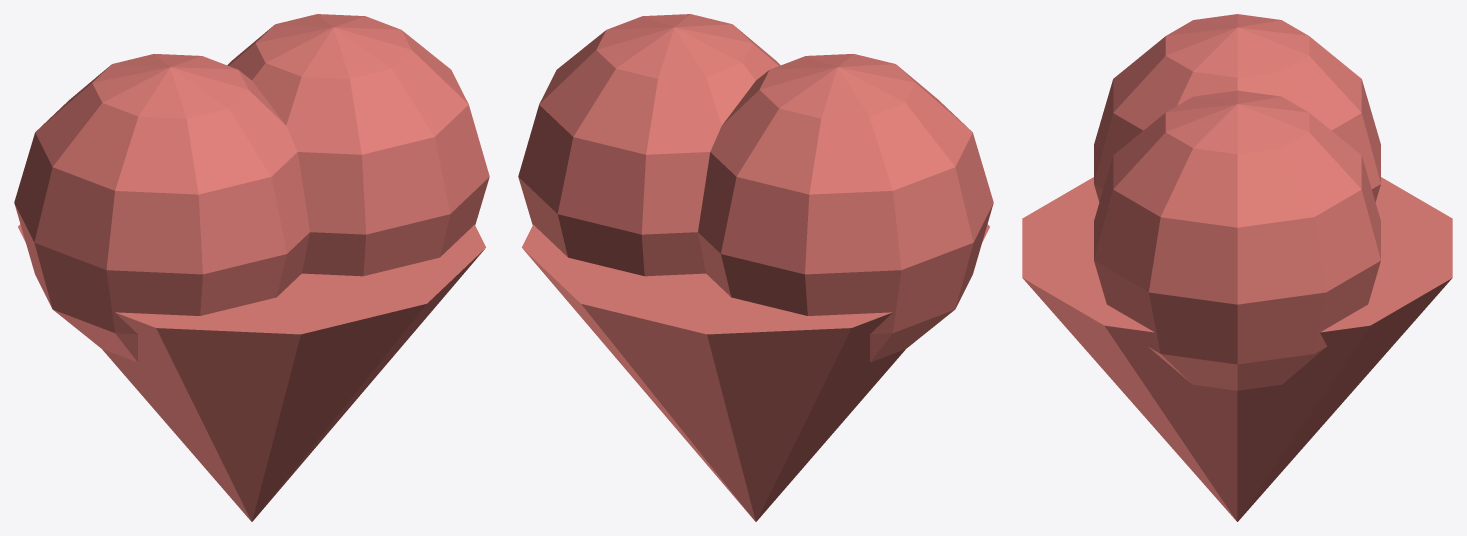
File: latido.glb
3 renders of one model, left to right at view 1: azimuth 30°, elevation 25°; view 2: azimuth 150°, elevation 25°; view 3: azimuth 270°, elevation 25°, orthographic. The views are drawn at different scales.
Parts seen in each view (by area): view 1: latido; view 2: latido; view 3: latido.
Part boxes in pixels (x1,y1,x2,y2): latido: (14,14,489,521); latido: (518,14,993,521); latido: (1022,14,1452,521).
Size of the model in its own units: 0.96 by 1 by 0.856.
